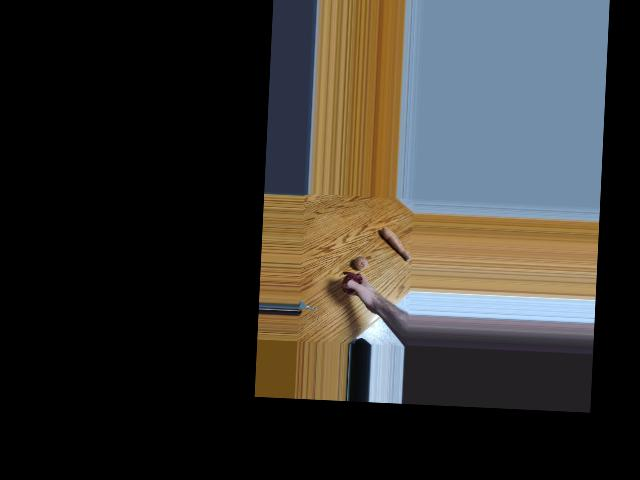onion: (343, 271, 364, 293)
